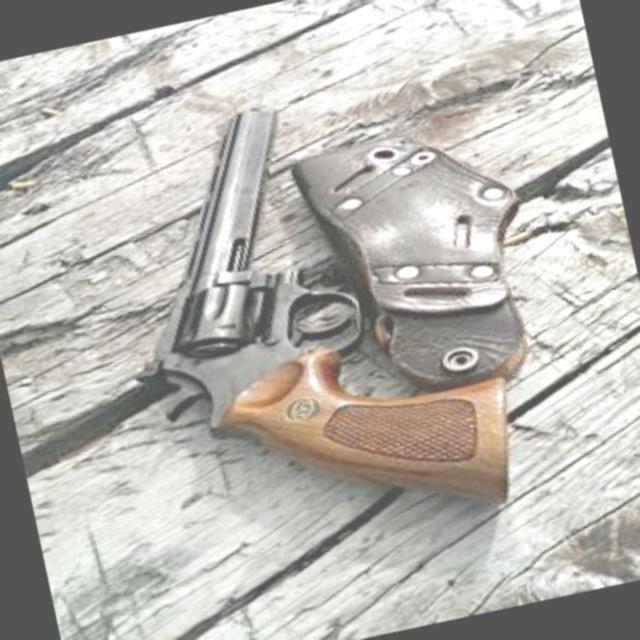revolver: (0, 37, 619, 618)
